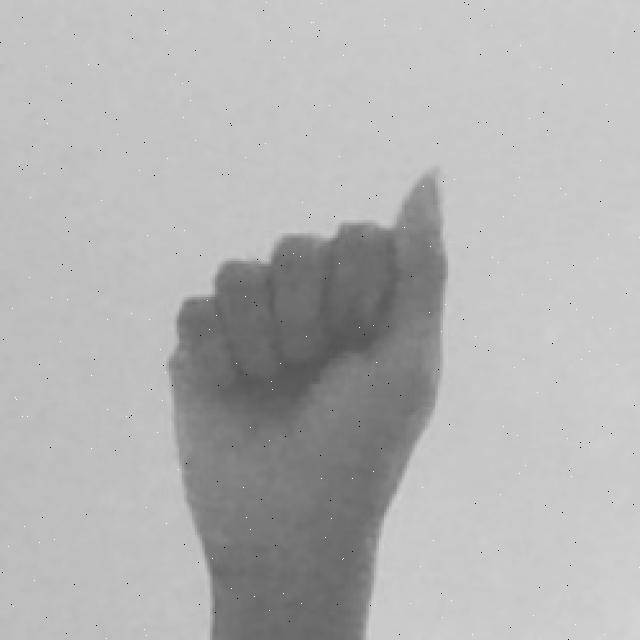A: (163, 160, 459, 640)
